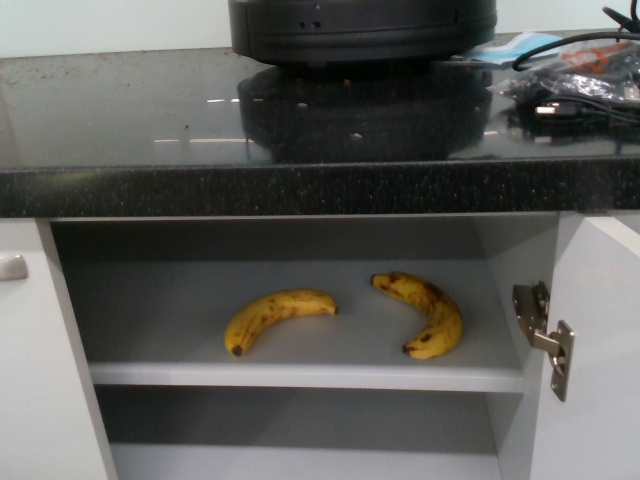banana: (368, 271, 466, 362), (223, 288, 336, 355)
